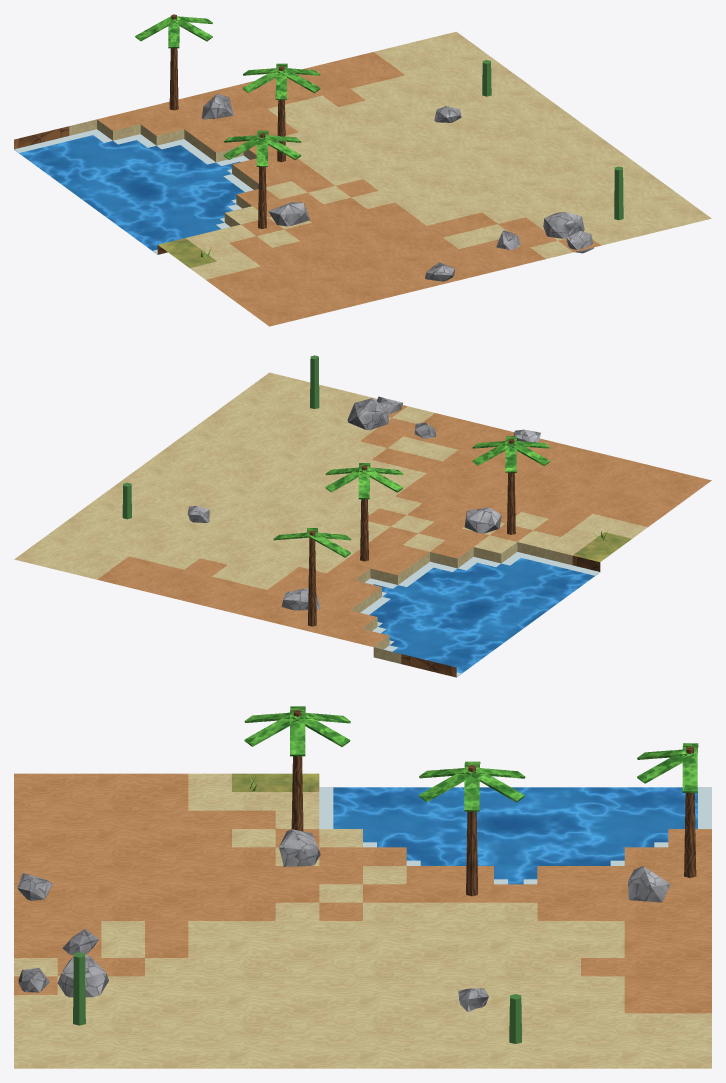
File: chunk_10_21.glb
3 renders of one model, top to bottom at view 1: azimuth 30°, elevation 25°; view 2: azimuth 150°, elevation 25°; view 3: azimuth 270°, elevation 25°, orthographic. The views are drawn at different scales.
Parts seen in each view (by area): view 1: chunk_10_21; view 2: chunk_10_21; view 3: chunk_10_21.
Part boxes in pixels (<box>): chunk_10_21: <box>14,14,711,326</box>; chunk_10_21: <box>14,355,711,677</box>; chunk_10_21: <box>14,706,711,1068</box>.
Size of the model in its own units: 16 by 3.73 by 16.
Materials: 12 (9 with a texture image).
